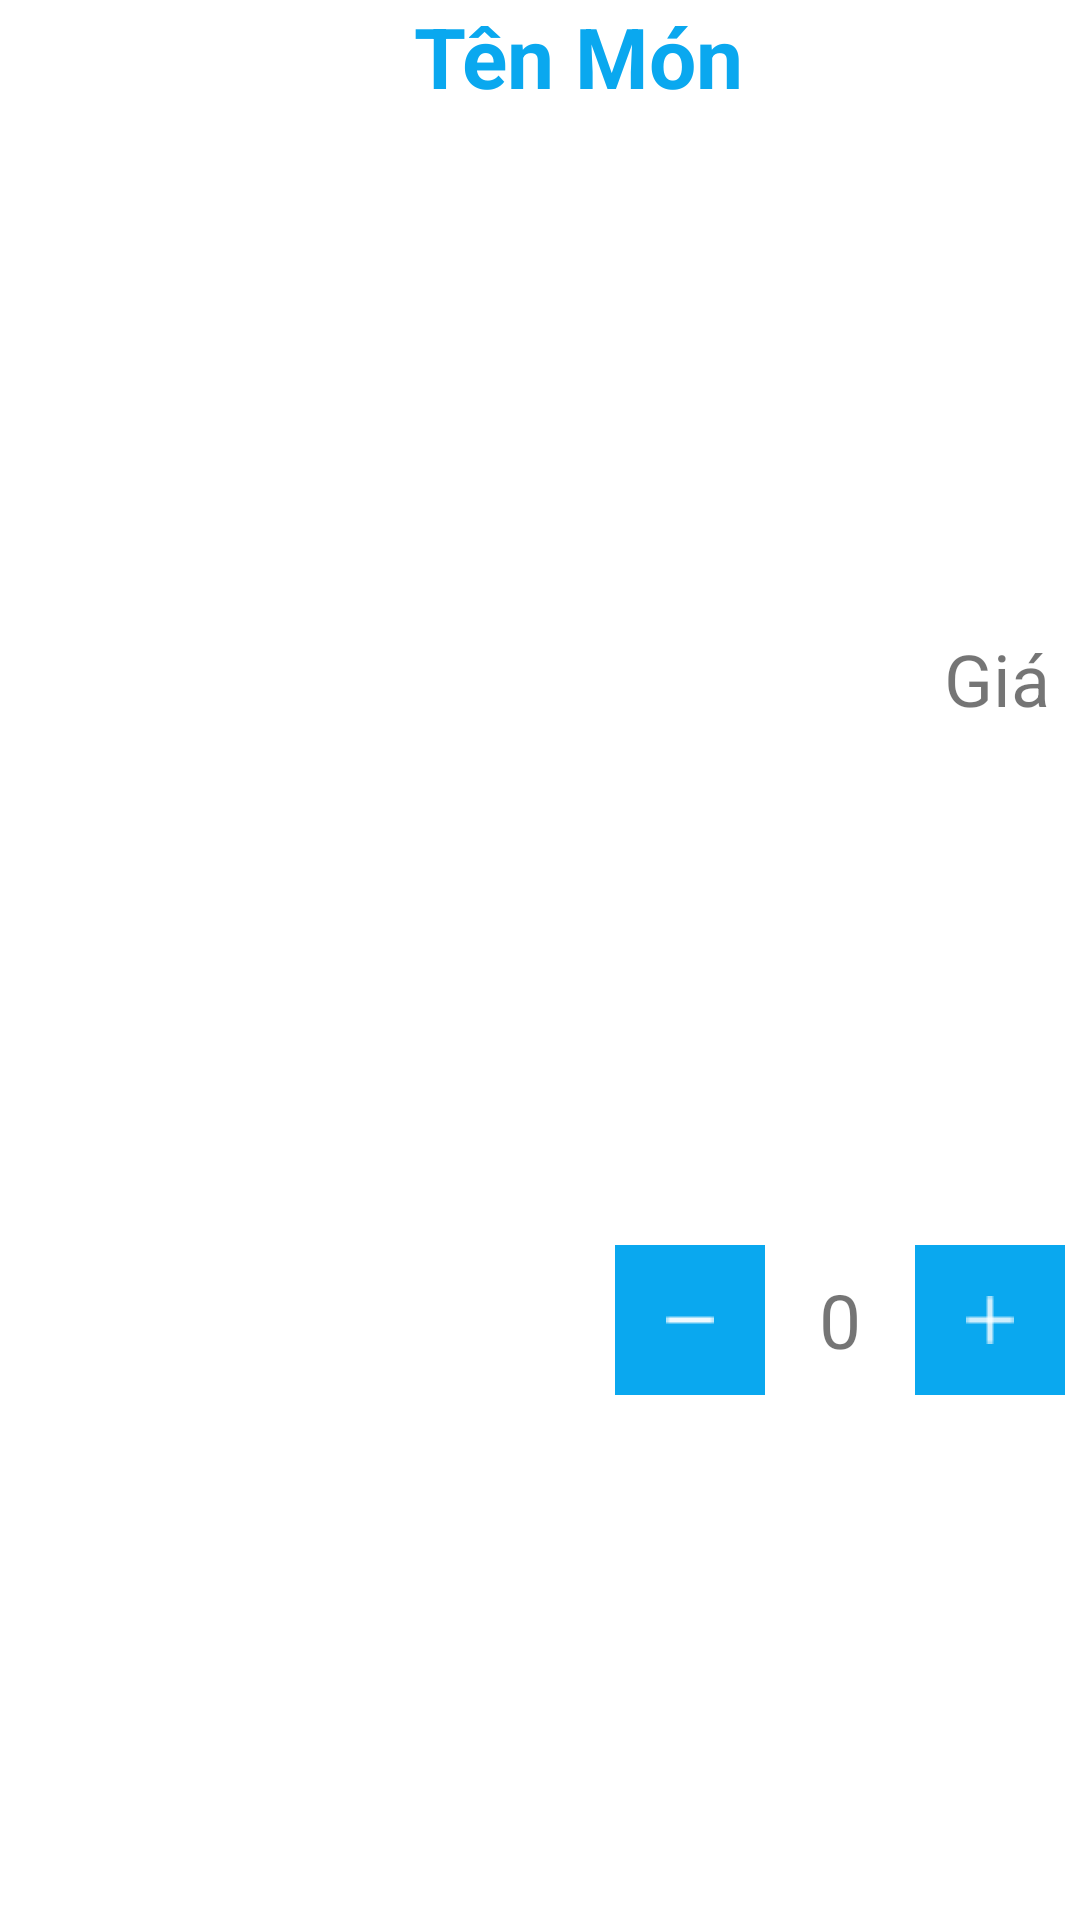

Icon bounding boxes for this 1080*1920 phone screenshot, format (x1, y1, x2, y2):
minus: (615, 1245, 765, 1395)
plus: (915, 1245, 1065, 1395)
